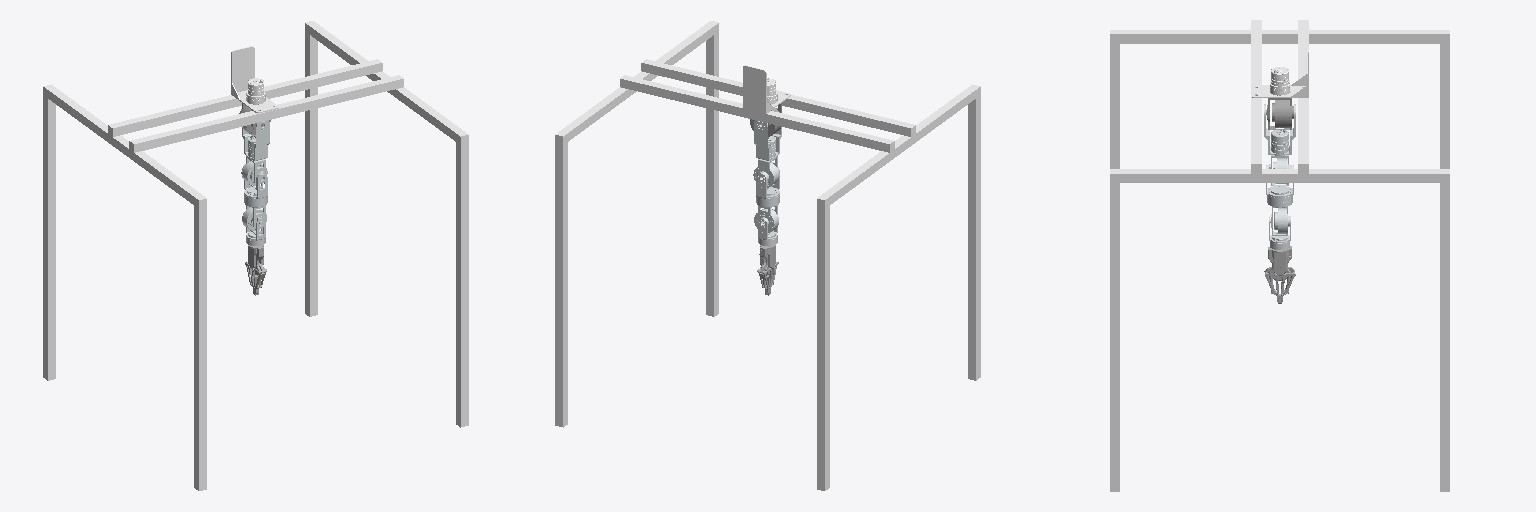
robot.urdf — robot_description:
<?xml version="1.0" encoding="utf-8"?>
<!-- This URDF was automatically created by SolidWorks to URDF Exporter! Originally created by [author] ([email redacted]) 
     Commit Version: 1.5.1-0-g916b5db  Build Version: 1.5.7152.31018
     For more information, please see http://wiki.ros.org/sw_urdf_exporter -->
<robot
  name="robot_description">
  <link
    name="base_link">
    <inertial>
      <origin
        xyz="-1.0632E-06 0.0056217 -0.3388"
        rpy="0 0 0" />
      <mass
        value="18.864" />
      <inertia
        ixx="7.0928"
        ixy="-1.8514E-07"
        ixz="9.1651E-07"
        iyy="8.7041"
        iyz="-0.0042417"
        izz="9.4748" />
    </inertial>
    <visual>
      <origin
        xyz="0 0 0"
        rpy="0 0 0" />
      <geometry>
        <mesh
          filename="package://robot_description/meshes/base_link.STL" />
      </geometry>
      <material
        name="">
        <color
          rgba="1 1 1 1" />
      </material>
    </visual>
    <collision>
      <origin
        xyz="0 0 0"
        rpy="0 0 0" />
      <geometry>
        <mesh
          filename="package://robot_description/meshes/base_link.STL" />
      </geometry>
    </collision>
  </link>
  <link
    name="link1">
    <inertial>
      <origin
        xyz="-0.00012557 0.0053091 -0.071768"
        rpy="0 0 0" />
      <mass
        value="0.64188" />
      <inertia
        ixx="0.0017662"
        ixy="4.5469E-07"
        ixz="-3.0475E-06"
        iyy="0.0016005"
        iyz="2.6064E-06"
        izz="0.0010995" />
    </inertial>
    <visual>
      <origin
        xyz="0 0 0"
        rpy="0 0 0" />
      <geometry>
        <mesh
          filename="package://robot_description/meshes/link1.STL" />
      </geometry>
      <material
        name="">
        <color
          rgba="0.6902 0.6902 0.6902 1" />
      </material>
    </visual>
    <collision>
      <origin
        xyz="0 0 0"
        rpy="0 0 0" />
      <geometry>
        <mesh
          filename="package://robot_description/meshes/link1.STL" />
      </geometry>
    </collision>
  </link>
  <joint
    name="joint1"
    type="revolute">
    <origin
      xyz="0 0 0"
      rpy="0 0 0" />
    <parent
      link="base_link" />
    <child
      link="link1" />
    <axis
      xyz="0 0 1" />
    <limit
      lower="-1.5708"
      upper="1.5708"
      effort="0"
      velocity="0" />
  </joint>
  <link
    name="link2">
    <inertial>
      <origin
        xyz="3.0473E-05 0.097541 0.00020543"
        rpy="0 0 0" />
      <mass
        value="0.86164" />
      <inertia
        ixx="0.003276"
        ixy="1.0596E-06"
        ixz="-3.0719E-07"
        iyy="0.0016779"
        iyz="1.646E-05"
        izz="0.0021946" />
    </inertial>
    <visual>
      <origin
        xyz="0 0 0"
        rpy="0 0 0" />
      <geometry>
        <mesh
          filename="package://robot_description/meshes/link2.STL" />
      </geometry>
      <material
        name="">
        <color
          rgba="0.89804 0.92157 0.92941 1" />
      </material>
    </visual>
    <collision>
      <origin
        xyz="0 0 0"
        rpy="0 0 0" />
      <geometry>
        <mesh
          filename="package://robot_description/meshes/link2.STL" />
      </geometry>
    </collision>
  </link>
  <joint
    name="joint2"
    type="revolute">
    <origin
      xyz="0 0 -0.09"
      rpy="-1.5708 0 0" />
    <parent
      link="link1" />
    <child
      link="link2" />
    <axis
      xyz="0 0 1" />
    <limit
      lower="-1.5708"
      upper="1.5708"
      effort="0"
      velocity="0" />
  </joint>
  <link
    name="link3">
    <inertial>
      <origin
        xyz="0.0002201 -0.0066866 0.23442"
        rpy="0 0 0" />
      <mass
        value="0.37756" />
      <inertia
        ixx="0.00074353"
        ixy="6.7209E-07"
        ixz="-1.0397E-06"
        iyy="0.00067747"
        iyz="4.1779E-06"
        izz="0.00041213" />
    </inertial>
    <visual>
      <origin
        xyz="0 0 0"
        rpy="0 0 0" />
      <geometry>
        <mesh
          filename="package://robot_description/meshes/link3.STL" />
      </geometry>
      <material
        name="">
        <color
          rgba="0.89804 0.92157 0.92941 1" />
      </material>
    </visual>
    <collision>
      <origin
        xyz="0 0 0"
        rpy="0 0 0" />
      <geometry>
        <mesh
          filename="package://robot_description/meshes/link3.STL" />
      </geometry>
    </collision>
  </link>
  <joint
    name="joint3"
    type="revolute">
    <origin
      xyz="0 0 0"
      rpy="-1.5708 0 0" />
    <parent
      link="link2" />
    <child
      link="link3" />
    <axis
      xyz="0 0 1" />
    <limit
      lower="-1.5708"
      upper="1.5708"
      effort="0"
      velocity="0" />
  </joint>
  <link
    name="link4">
    <inertial>
      <origin
        xyz="-0.00021687 0.060002 0.0035112"
        rpy="0 0 0" />
      <mass
        value="0.36887" />
      <inertia
        ixx="0.0010416"
        ixy="6.4702E-07"
        ixz="1.3187E-06"
        iyy="0.00080396"
        iyz="2.4281E-05"
        izz="0.00055378" />
    </inertial>
    <visual>
      <origin
        xyz="0 0 0"
        rpy="0 0 0" />
      <geometry>
        <mesh
          filename="package://robot_description/meshes/link4.STL" />
      </geometry>
      <material
        name="">
        <color
          rgba="0.89804 0.91765 0.92941 1" />
      </material>
    </visual>
    <collision>
      <origin
        xyz="0 0 0"
        rpy="0 0 0" />
      <geometry>
        <mesh
          filename="package://robot_description/meshes/link4.STL" />
      </geometry>
    </collision>
  </link>
  <joint
    name="joint4"
    type="revolute">
    <origin
      xyz="0 0 0.247"
      rpy="1.5708 0 0" />
    <parent
      link="link3" />
    <child
      link="link4" />
    <axis
      xyz="0 0 1" />
    <limit
      lower="-1.5708"
      upper="1.5708"
      effort="0"
      velocity="0" />
  </joint>
  <link
    name="link5">
    <inertial>
      <origin
        xyz="-3.7954E-05 -0.0040059 0.20019"
        rpy="0 0 0" />
      <mass
        value="0.3279" />
      <inertia
        ixx="0.00059271"
        ixy="-4.4959E-07"
        ixz="-8.4267E-07"
        iyy="0.00061057"
        iyz="9.2308E-06"
        izz="0.00027776" />
    </inertial>
    <visual>
      <origin
        xyz="0 0 0"
        rpy="0 0 0" />
      <geometry>
        <mesh
          filename="package://robot_description/meshes/link5.STL" />
      </geometry>
      <material
        name="">
        <color
          rgba="0.89804 0.92157 0.92941 1" />
      </material>
    </visual>
    <collision>
      <origin
        xyz="0 0 0"
        rpy="0 0 0" />
      <geometry>
        <mesh
          filename="package://robot_description/meshes/link5.STL" />
      </geometry>
    </collision>
  </link>
  <joint
    name="joint5"
    type="revolute">
    <origin
      xyz="0 0 0"
      rpy="-1.5708 0 0" />
    <parent
      link="link4" />
    <child
      link="link5" />
    <axis
      xyz="0 0 1" />
    <limit
      lower="-1.5708"
      upper="1.5708"
      effort="0"
      velocity="0" />
  </joint>
  <link
    name="link6">
    <inertial>
      <origin
        xyz="-3.4285E-06 0.055699 0.003099"
        rpy="0 0 0" />
      <mass
        value="0.15932" />
      <inertia
        ixx="0.00027644"
        ixy="2.2114E-07"
        ixz="-1.2983E-07"
        iyy="0.00022849"
        iyz="5.9163E-07"
        izz="0.00015048" />
    </inertial>
    <visual>
      <origin
        xyz="0 0 0"
        rpy="0 0 0" />
      <geometry>
        <mesh
          filename="package://robot_description/meshes/link6.STL" />
      </geometry>
      <material
        name="">
        <color
          rgba="0.89804 0.91765 0.92941 1" />
      </material>
    </visual>
    <collision>
      <origin
        xyz="0 0 0"
        rpy="0 0 0" />
      <geometry>
        <mesh
          filename="package://robot_description/meshes/link6.STL" />
      </geometry>
    </collision>
  </link>
  <joint
    name="joint6"
    type="revolute">
    <origin
      xyz="0 0 0.2105"
      rpy="1.5708 0 0" />
    <parent
      link="link5" />
    <child
      link="link6" />
    <axis
      xyz="0 0 1" />
    <limit
      lower="-1.5708"
      upper="1.5708"
      effort="0"
      velocity="0" />
  </joint>
  <link
    name="link7">
    <inertial>
      <origin
        xyz="-1.4198E-05 -8.3005E-07 0.23736"
        rpy="0 0 0" />
      <mass
        value="0.14929" />
      <inertia
        ixx="7.6375E-05"
        ixy="-1.2475E-07"
        ixz="-3.3646E-09"
        iyy="7.2565E-05"
        iyz="8.0144E-10"
        izz="4.0751E-05" />
    </inertial>
    <visual>
      <origin
        xyz="0 0 0"
        rpy="0 0 0" />
      <geometry>
        <mesh
          filename="package://robot_description/meshes/link7.STL" />
      </geometry>
      <material
        name="">
        <color
          rgba="0.75294 0.75294 0.75294 1" />
      </material>
    </visual>
    <collision>
      <origin
        xyz="0 0 0"
        rpy="0 0 0" />
      <geometry>
        <mesh
          filename="package://robot_description/meshes/link7.STL" />
      </geometry>
    </collision>
  </link>
  <joint
    name="joint7"
    type="revolute">
    <origin
      xyz="0 0 0"
      rpy="-1.5708 0 0" />
    <parent
      link="link6" />
    <child
      link="link7" />
    <axis
      xyz="0 0 1" />
    <limit
      lower="-1.5708"
      upper="1.5708"
      effort="0"
      velocity="0" />
  </joint>
</robot>

--- What the picture shows (computed from the rendered views, not written in the file) ---
The picture shows the robot from 3 angles, left to right: view 1: azimuth 30°, elevation 25°; view 2: azimuth 150°, elevation 25°; view 3: azimuth 270°, elevation 25°; orthographic projection.
Robot: robot_description — 8 links, 7 joints (7 revolute); root link base_link; default pose: every joint at zero.
Visible links, largest first — view 1: base_link, link2, link7, link4; view 2: base_link, link2, link7, link4; view 3: base_link, link7, link2, link1, link4.
Boxes of the visible links, <box> form: base_link: <box>43,21,468,490</box>; link2: <box>242,120,269,160</box>; link7: <box>245,245,266,295</box>; link4: <box>244,172,267,207</box>; base_link: <box>555,21,980,490</box>; link2: <box>754,120,781,160</box>; link7: <box>757,245,778,295</box>; link4: <box>756,167,779,207</box>; base_link: <box>1110,20,1449,491</box>; link7: <box>1264,246,1295,303</box>; link2: <box>1264,104,1295,155</box>; link1: <box>1266,98,1293,129</box>; link4: <box>1266,165,1293,207</box>.
Bounding box of the posed robot: 1.3 × 1.3 × 1.58 m (x, y, z).
Meshes: 8 distinct files referenced, 8 mesh visuals loaded (8 binary STL).